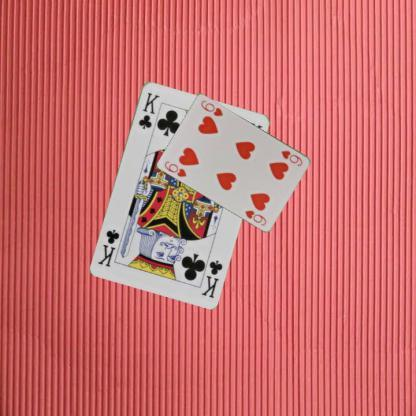6h: (279, 147, 304, 168), (162, 158, 188, 178)
Kc: (198, 257, 223, 299), (136, 90, 162, 130)
